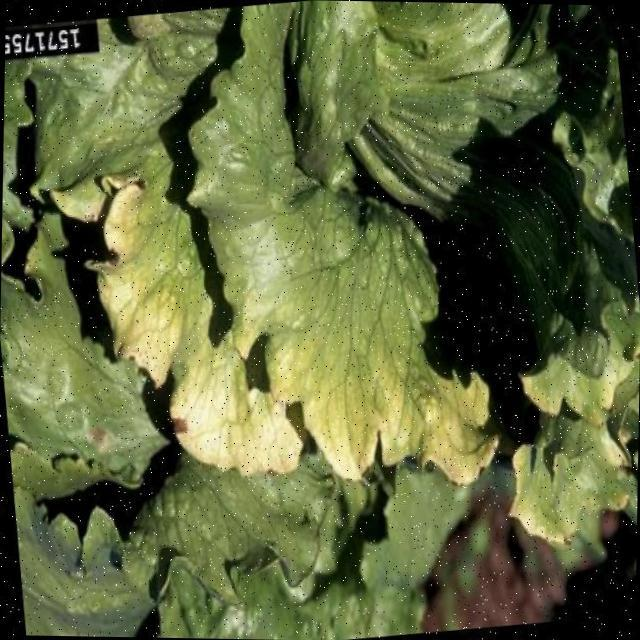Lettuce Mosaic Virus: (68, 14, 507, 517)
